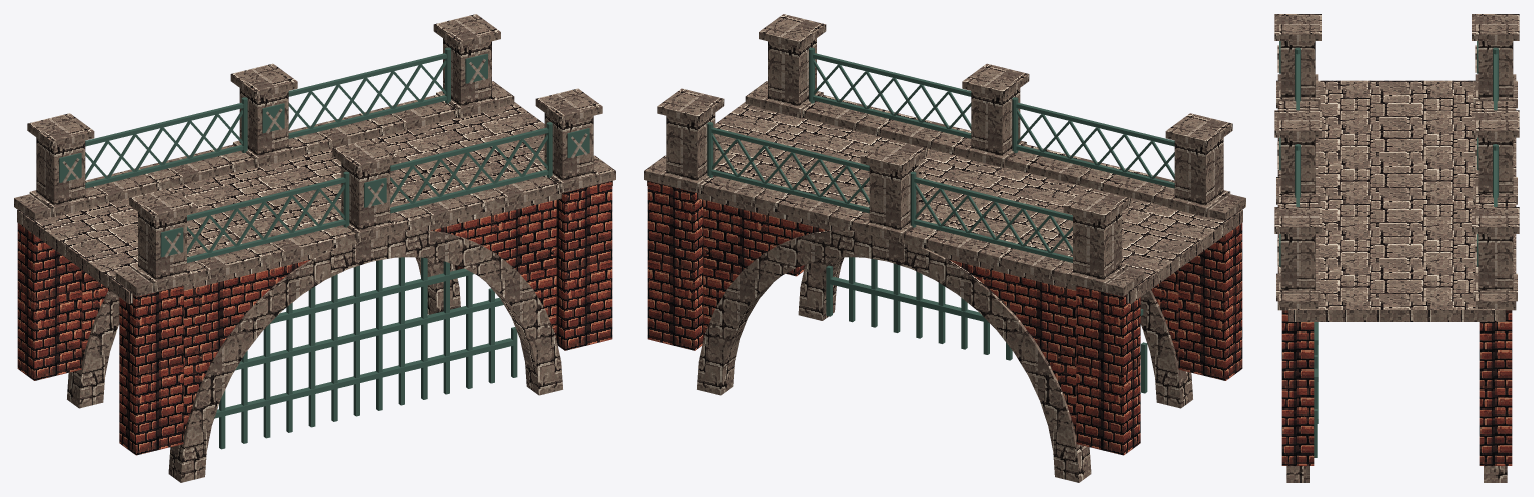
File: arch_bridge.glb
3 views of the same model, side by side, from view 1: azimuth 30°, elevation 25°; view 2: azimuth 150°, elevation 25°; view 3: azimuth 270°, elevation 25° (orthographic). The views are drawn at different scales.
Parts seen in each view (by area): view 1: arch_bridge_p9_stone, arch_bridge_p9_brick, arch_bridge_p9_iron, arch_bridge_p9_paving; view 2: arch_bridge_p9_stone, arch_bridge_p9_brick, arch_bridge_p9_paving, arch_bridge_p9_iron; view 3: arch_bridge_p9_paving, arch_bridge_p9_stone, arch_bridge_p9_brick, arch_bridge_p9_iron.
Part boxes in pixels (x1,y1,x2,y2): arch_bridge_p9_stone: (14,14,615,482); arch_bridge_p9_brick: (17,181,612,455); arch_bridge_p9_iron: (59,47,589,449); arch_bridge_p9_paving: (17,102,612,303); arch_bridge_p9_stone: (644,14,1245,482); arch_bridge_p9_brick: (647,181,1242,455); arch_bridge_p9_paving: (647,102,1242,303); arch_bridge_p9_iron: (707,47,1174,393); arch_bridge_p9_paving: (1288,80,1505,321); arch_bridge_p9_stone: (1274,14,1519,482); arch_bridge_p9_brick: (1281,310,1512,465); arch_bridge_p9_iron: (1279,41,1498,457).
Bounding box in the file's own units: 10 × 5.52 × 4.52.
4 materials, 3 textured.
